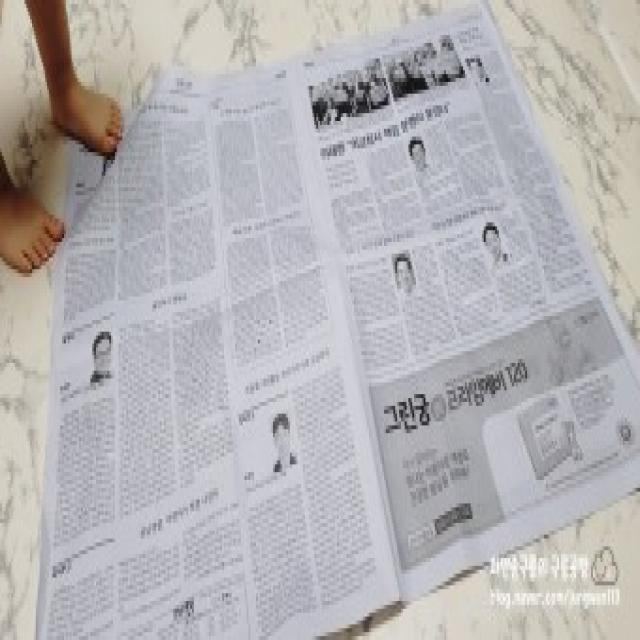Newspaper: (33, 2, 640, 637)
